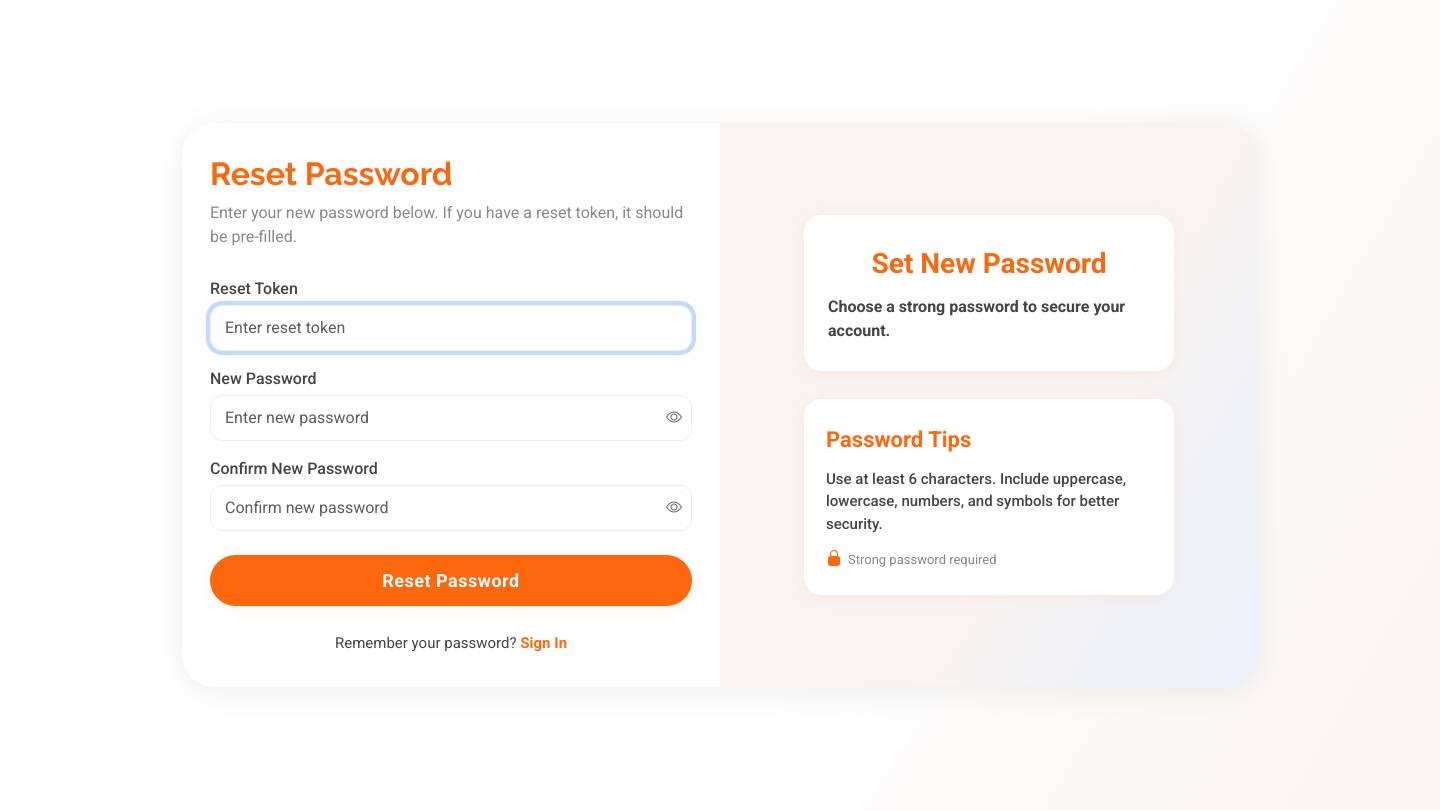
Scenario: ResetPassword › shows error when password is too short
Type "some-token" into the field labelled "Reset Token".
click(451, 328); type("some-token")  # box [210,305,692,351]
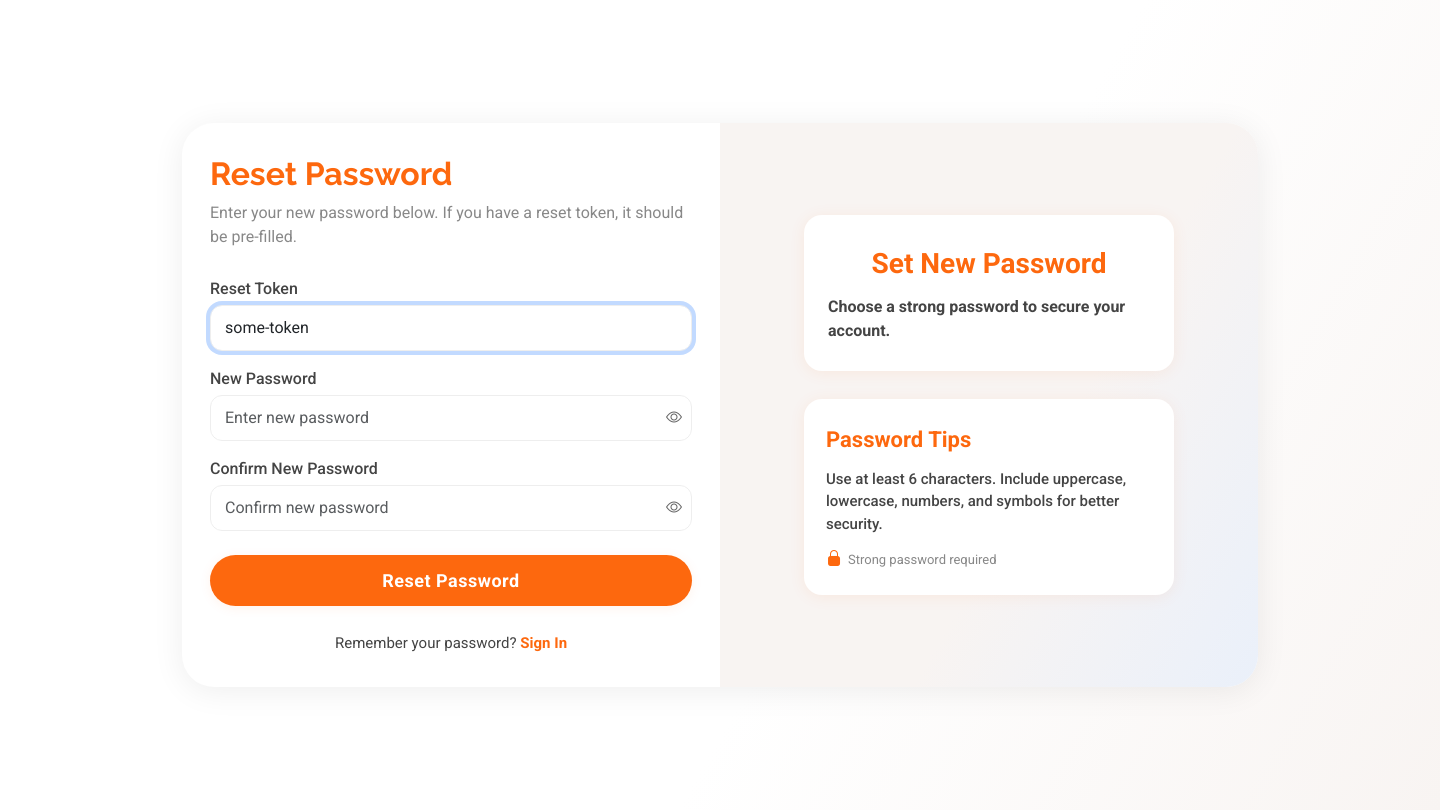
Type "123" into the password field labelled "New Password".
click(451, 418); type("123")  # box [210,395,692,441]
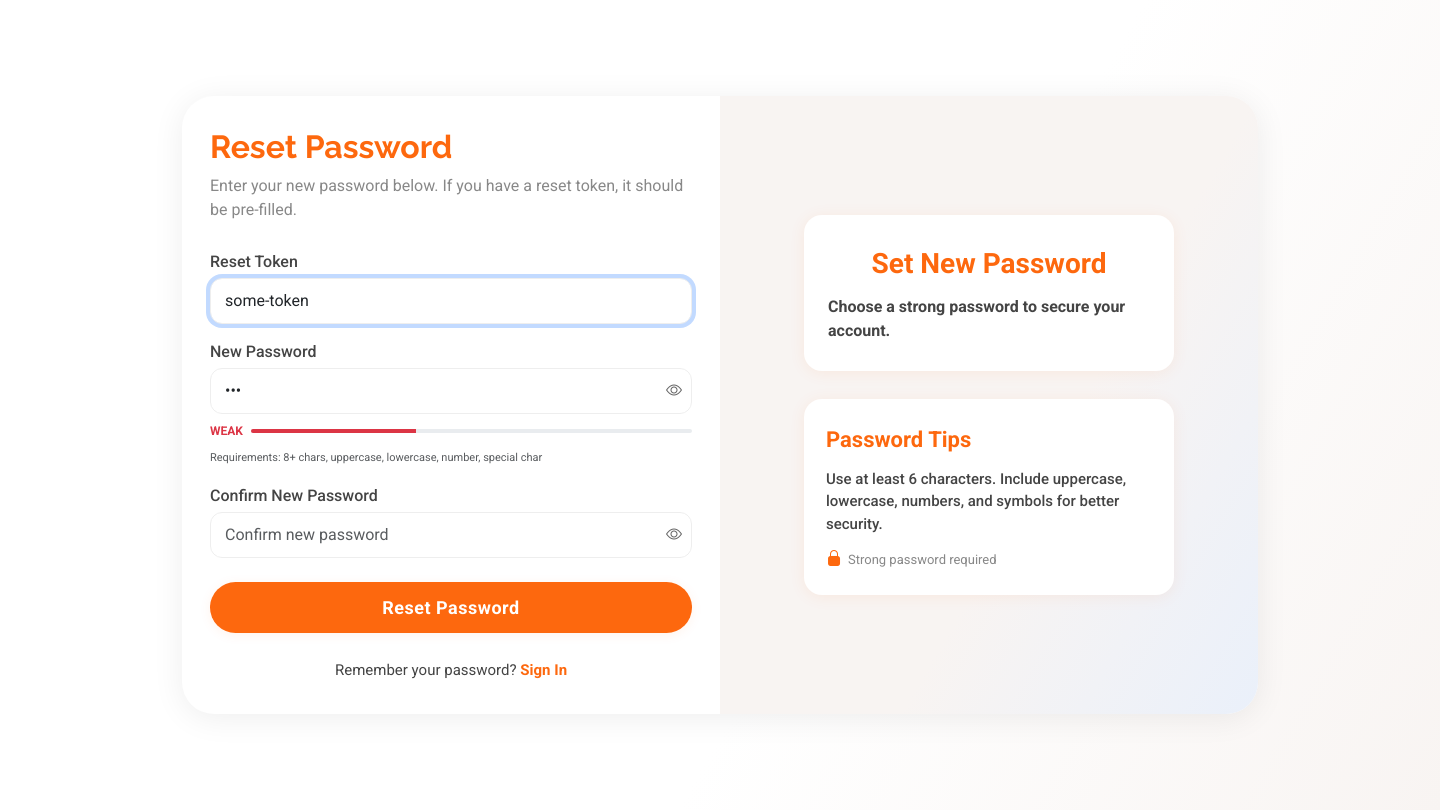
Type "123" into the password field labelled "Confirm New Password".
click(451, 535); type("123")  # box [210,512,692,558]
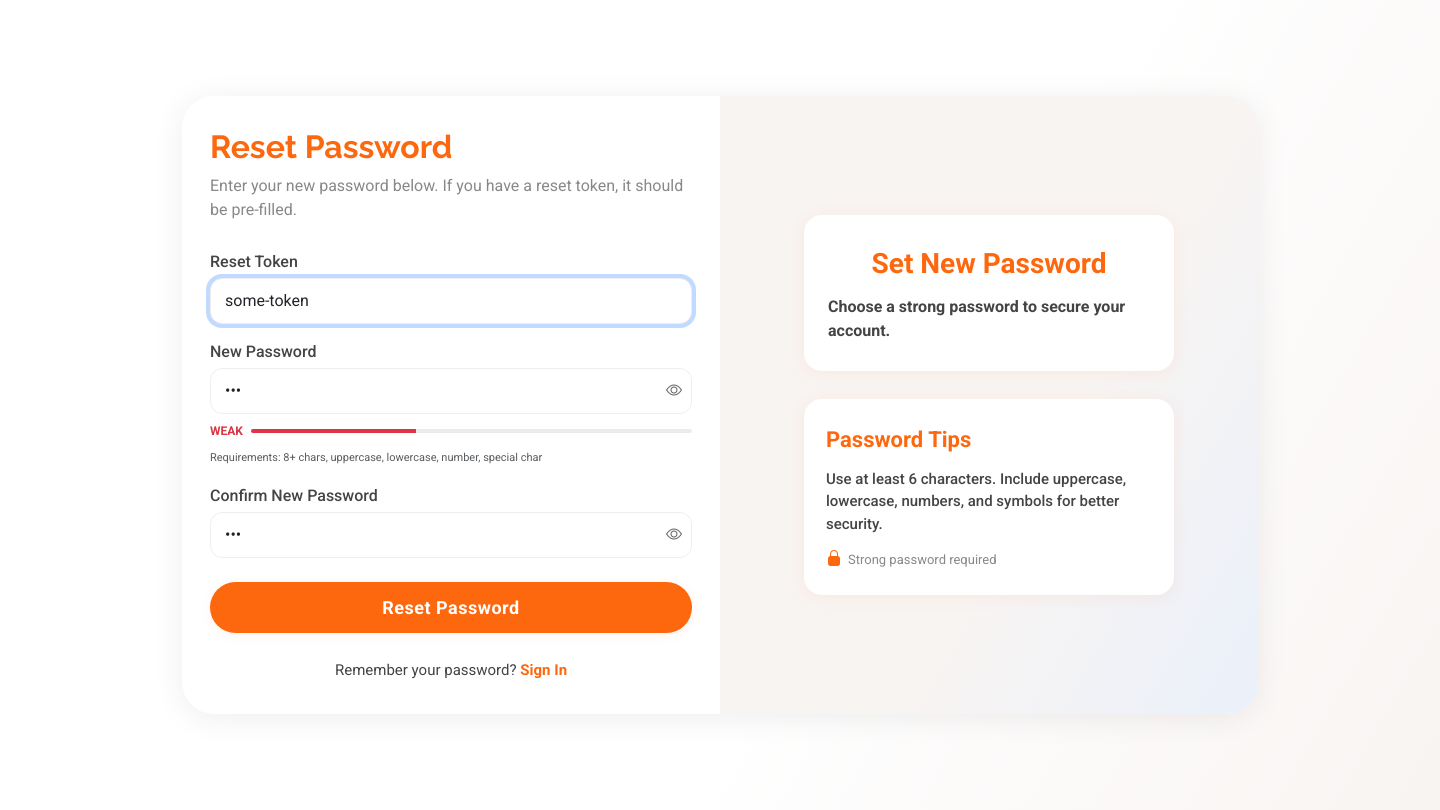
Click the button "Reset Password".
click(451, 608)  # box [210,582,692,633]
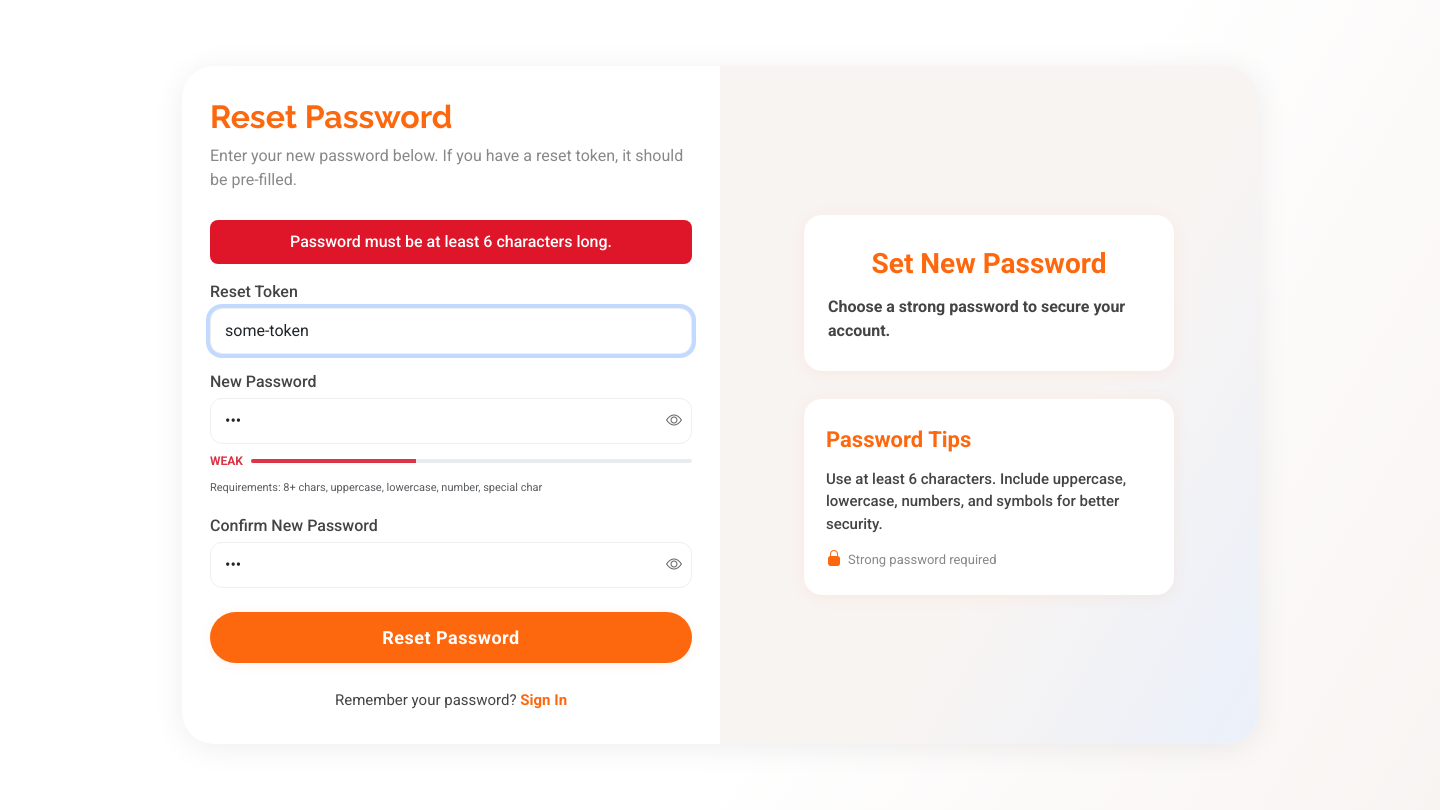
Now the text with test id "error-message" shows "Password must be at least 6 characters long", box [290,232,612,251]
